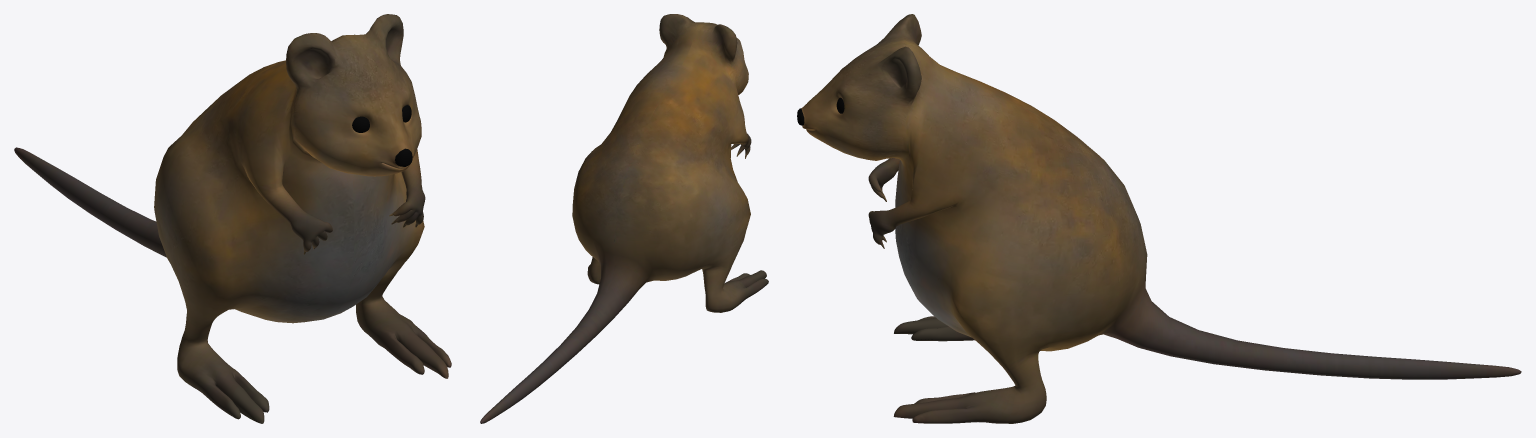
3 views of the same model, side by side, from view 1: azimuth 30°, elevation 25°; view 2: azimuth 150°, elevation 25°; view 3: azimuth 270°, elevation 25° (orthographic). The views are drawn at different scales.
Visible parts, largest first — view 1: pSphere3; view 2: pSphere3; view 3: pSphere3.
Boxes of the visible parts, left/top/right/bottom form: pSphere3: left=14, top=14, right=451, bottom=423; pSphere3: left=480, top=14, right=768, bottom=423; pSphere3: left=797, top=14, right=1521, bottom=423.
Bounding box in the file's own units: 0.5388 × 0.8745 × 1.66.
Materials: 2 (1 with a texture image).
